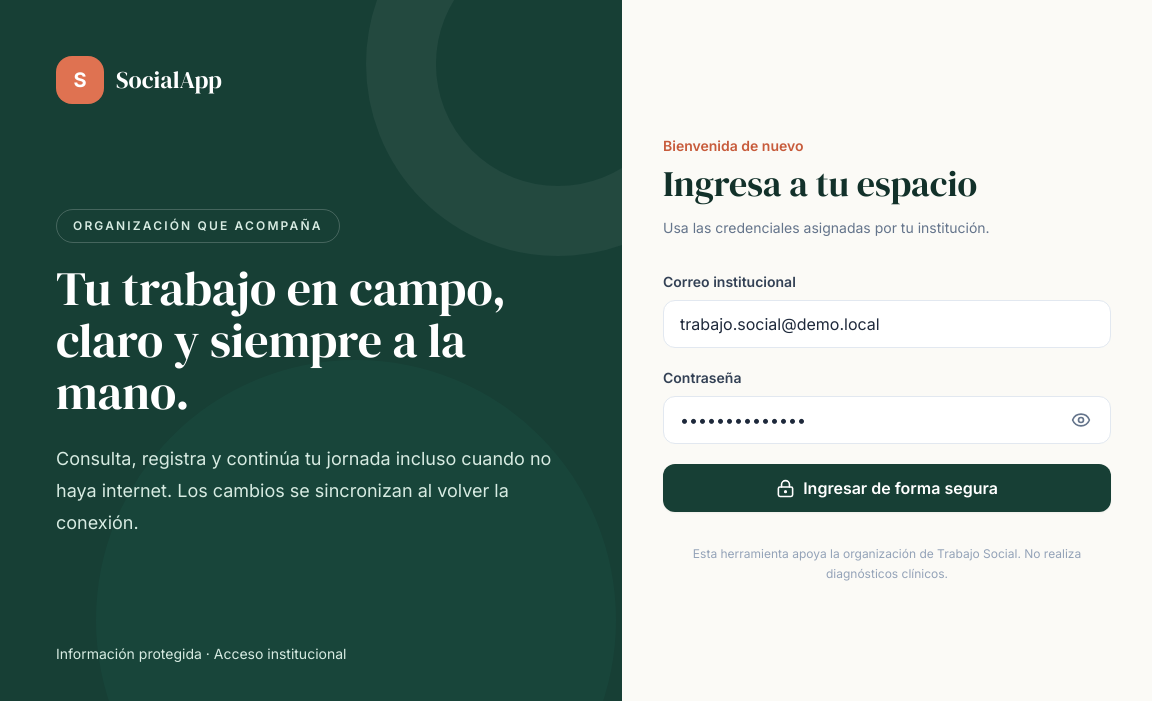
Test: safe switch login › requires the original account when changes are pending
What coordinates should you click on to do the following:
click the button "Ingresar de forma segura"
I would click on:
 (887, 488)
Its box is x1=663 y1=464 x2=1111 y2=512.
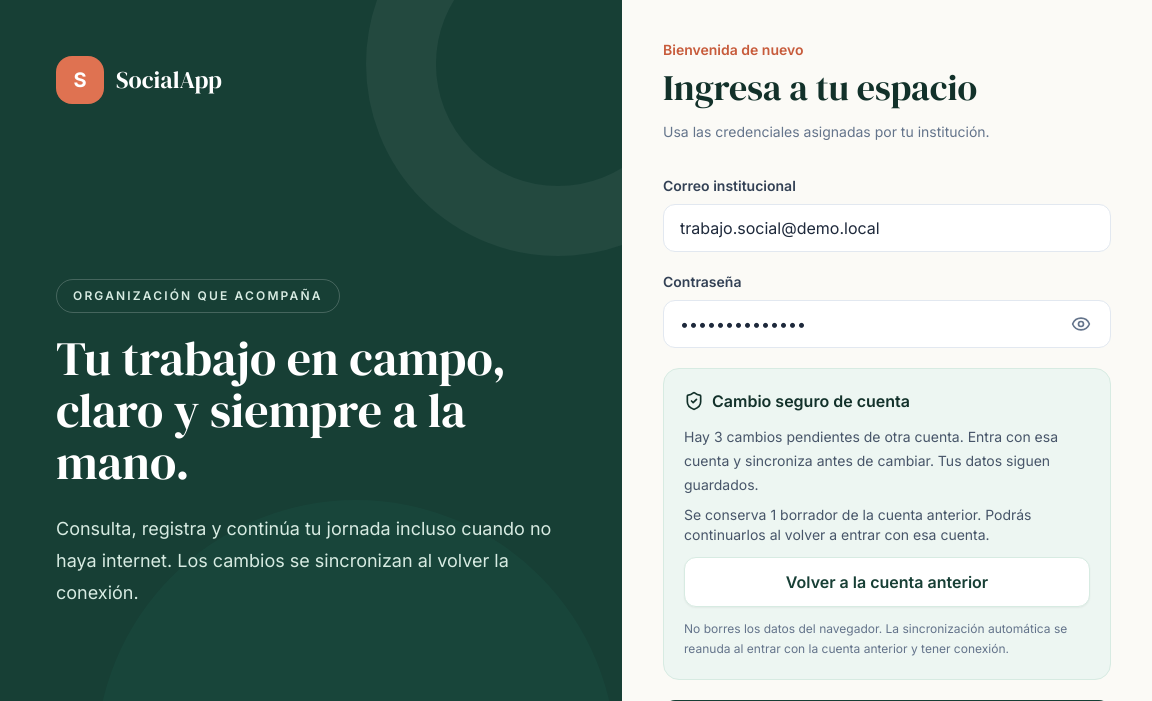
What coordinates should you click on to do the following:
click the button "Volver a la cuenta anterior"
I would click on:
 (887, 582)
Its box is x1=684 y1=557 x2=1090 y2=607.
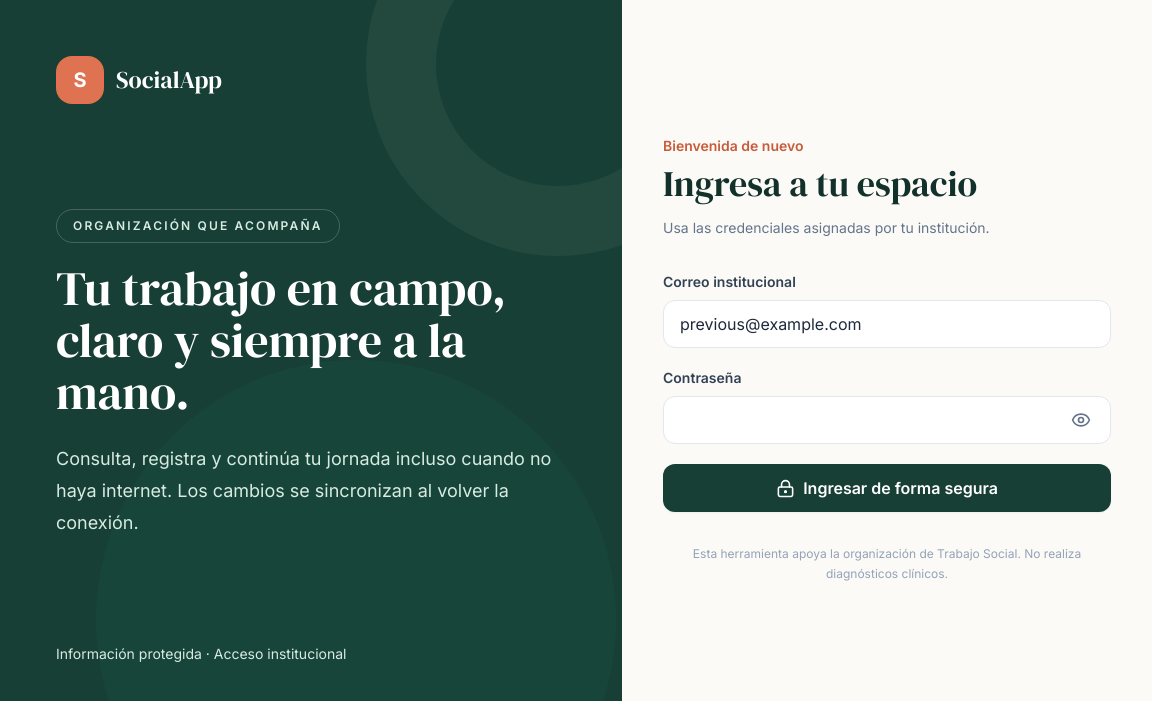
Expected: the field labelled "Correo institucional" holds "previous@example.com", x1=663 y1=300 x2=1111 y2=348
Expected: the password field labelled "Contraseña" is empty, x1=663 y1=396 x2=1111 y2=444
